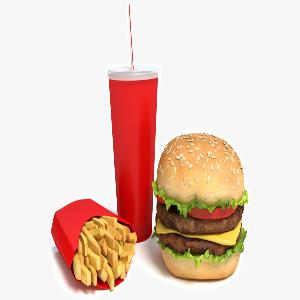cheeseburger: (157, 128, 252, 288)
fries: (73, 214, 139, 293)
